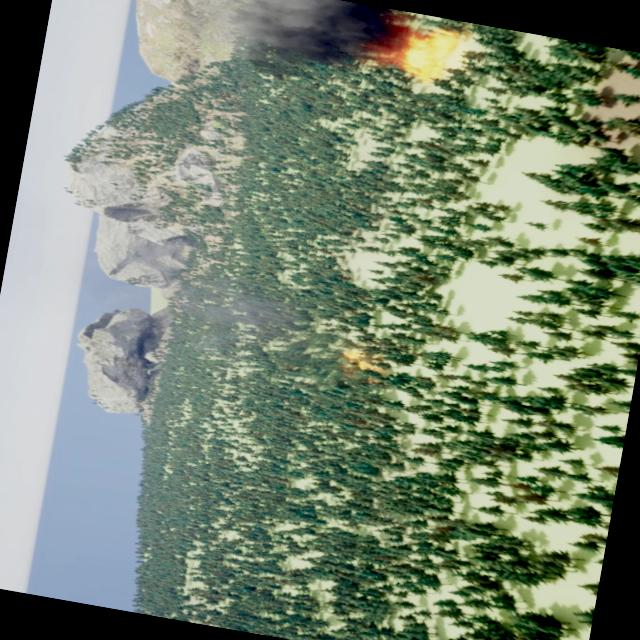fire: (377, 8, 468, 90), (338, 348, 391, 382)
smoke: (216, 0, 389, 91)
